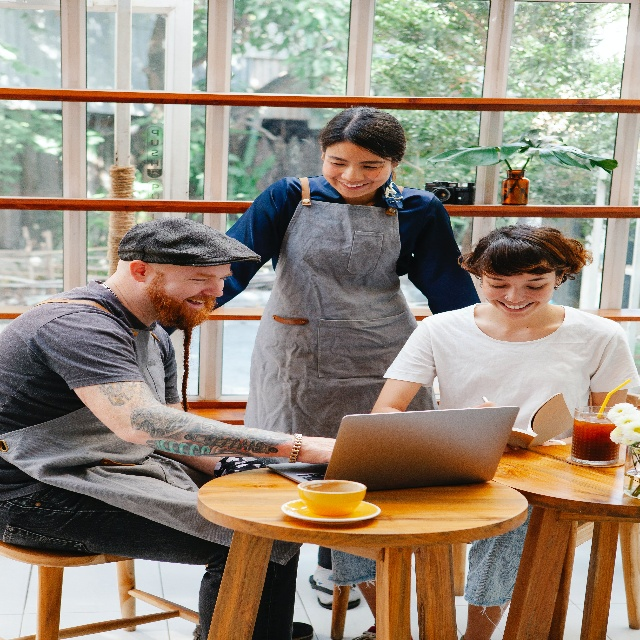Sin_guantes: (296, 437, 335, 464)
